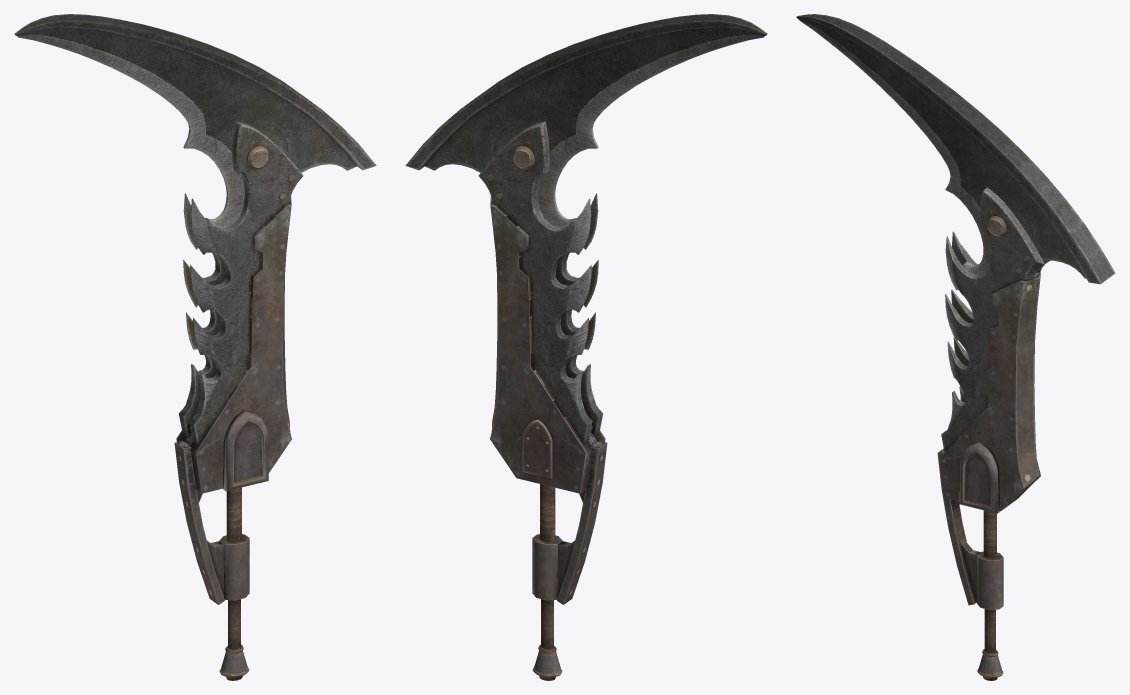
File: bs_two010.obj
The picture shows the model from 3 angles, left to right: view 1: azimuth 30°, elevation 25°; view 2: azimuth 150°, elevation 25°; view 3: azimuth 330°, elevation 25°; orthographic projection. The views are drawn at different scales.
Parts seen in each view (by area): view 1: bs_two010_002_LOD_1, bs_two010_000_LOD_1, bs_two010_001_LOD_1; view 2: bs_two010_002_LOD_1, bs_two010_000_LOD_1, bs_two010_001_LOD_1; view 3: bs_two010_002_LOD_1, bs_two010_000_LOD_1, bs_two010_001_LOD_1.
Boxes of the visible parts, <box> form: bs_two010_002_LOD_1: <box>14,14,376,227</box>; bs_two010_000_LOD_1: <box>174,197,291,680</box>; bs_two010_001_LOD_1: <box>178,121,303,444</box>; bs_two010_002_LOD_1: <box>405,14,767,227</box>; bs_two010_000_LOD_1: <box>490,197,607,680</box>; bs_two010_001_LOD_1: <box>478,121,603,444</box>; bs_two010_002_LOD_1: <box>796,14,1115,284</box>; bs_two010_000_LOD_1: <box>937,272,1040,680</box>; bs_two010_001_LOD_1: <box>941,188,1049,452</box>.
Bounding box in the file's own units: 144 × 274 × 18.36.
